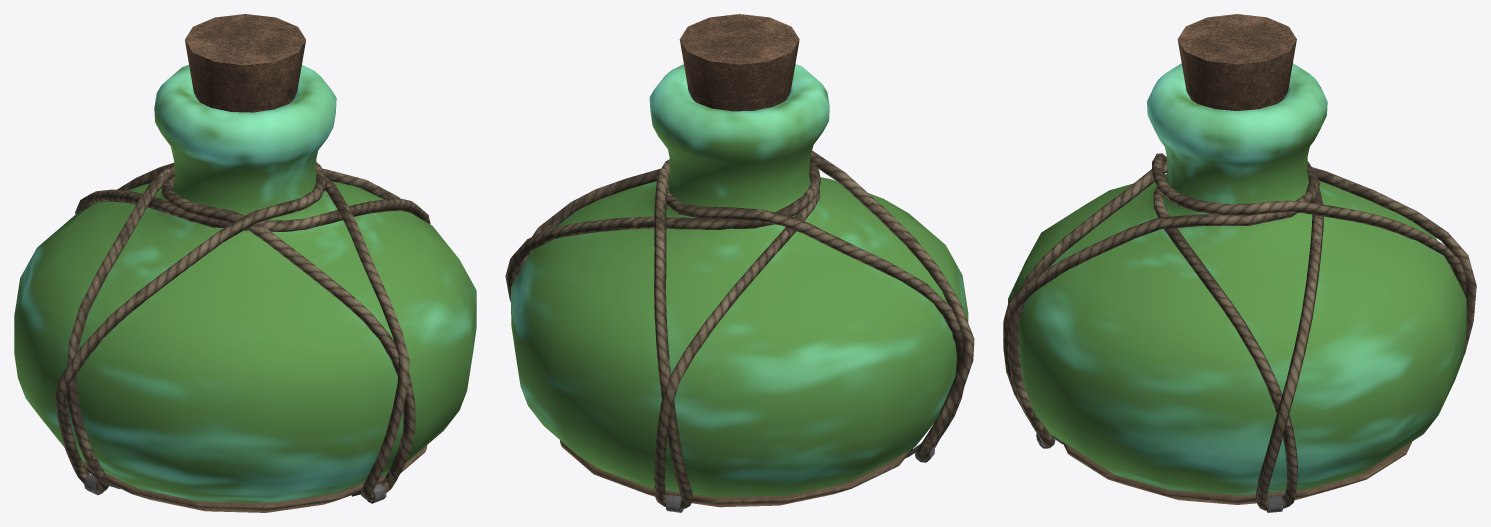
The model's file is a_slightly_different_magic_fire_potion.glb.
3 renders of one model, left to right at view 1: azimuth 30°, elevation 25°; view 2: azimuth 150°, elevation 25°; view 3: azimuth 270°, elevation 25°, orthographic.
Parts seen in each view (by area): view 1: Flask_mesh, rope, Corc, Flask_holder; view 2: Flask_mesh, rope, Corc, Flask_holder; view 3: Flask_mesh, rope, Corc, Flask_holder.
Boxes of the visible parts, x1,y1,x2,y2 form: Flask_mesh: (14,65,476,502); rope: (55,162,430,500); Corc: (185,14,305,112); Flask_holder: (82,445,427,512); Flask_mesh: (511,64,968,497); rope: (505,151,974,509); Corc: (679,14,799,111); Flask_holder: (560,440,934,512); Flask_mesh: (1008,63,1466,495); rope: (1003,153,1476,510); Corc: (1177,14,1296,110); Flask_holder: (1036,433,1411,512).
Size of the model in its own units: 0.8058 by 0.7588 by 0.7944.
3 materials, 3 textured.
